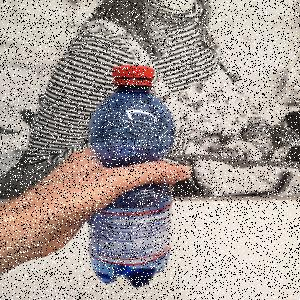Plastic-bottle: (87, 66, 178, 290)
